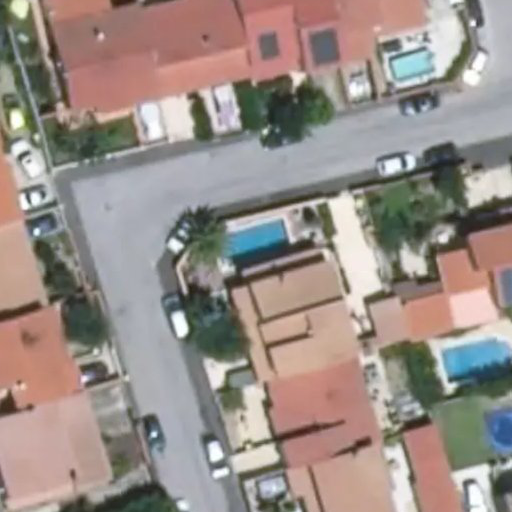pool: (215, 234, 296, 249)
